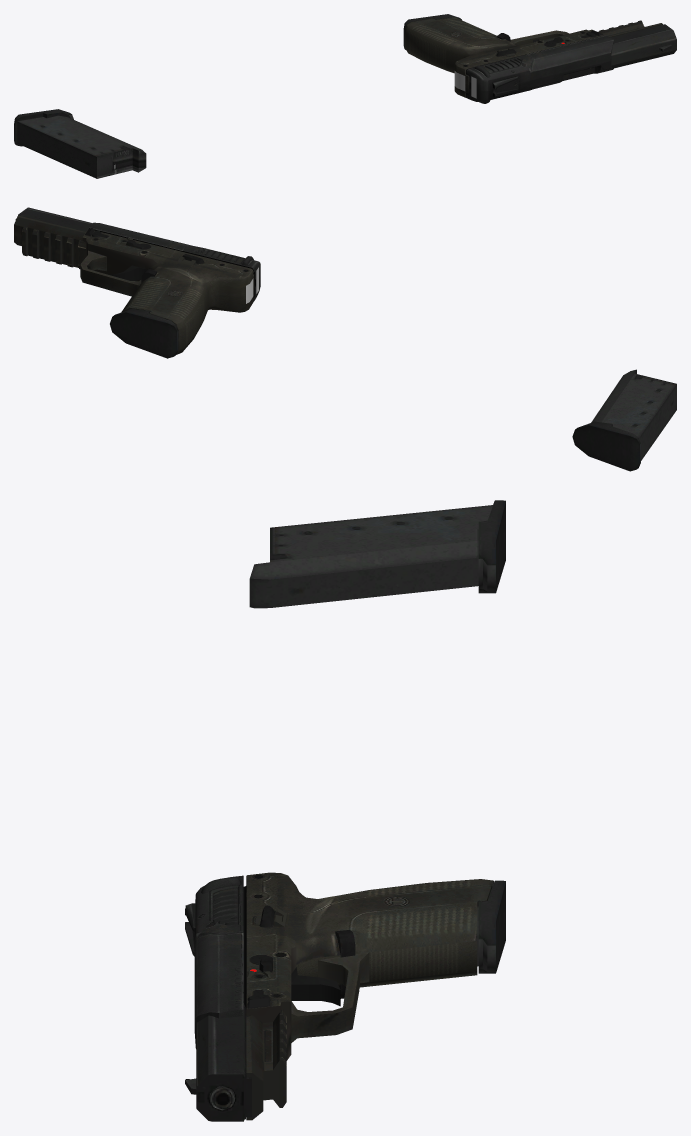
File: t6_wpn_pistol_fiveseven_view_lh_LOD0.obj
The picture shows the model from 3 angles, top to bottom: view 1: azimuth 30°, elevation 25°; view 2: azimuth 150°, elevation 25°; view 3: azimuth 270°, elevation 25°; orthographic projection. The views are drawn at different scales.
Visible parts, largest first — view 1: mtl_t6_wpn_pistol_fiveseven_camo1, mtl_t6_wpn_pistol_fiveseven_camo2, mtl_t6_wpn_pistol_fiveseven_camo3; view 2: mtl_t6_wpn_pistol_fiveseven_camo1, mtl_t6_wpn_pistol_fiveseven_camo2, mtl_t6_wpn_pistol_fiveseven_camo3; view 3: mtl_t6_wpn_pistol_fiveseven_camo1, mtl_t6_wpn_pistol_fiveseven_camo2, mtl_t6_wpn_pistol_fiveseven_camo3.
Part boxes in pixels (left/top/right/bottom): mtl_t6_wpn_pistol_fiveseven_camo1: left=14, top=17, right=662, bottom=178; mtl_t6_wpn_pistol_fiveseven_camo2: left=403, top=14, right=676, bottom=103; mtl_t6_wpn_pistol_fiveseven_camo3: left=468, top=35, right=613, bottom=100; mtl_t6_wpn_pistol_fiveseven_camo1: left=14, top=215, right=676, bottom=471; mtl_t6_wpn_pistol_fiveseven_camo2: left=15, top=207, right=260, bottom=358; mtl_t6_wpn_pistol_fiveseven_camo3: left=89, top=222, right=257, bottom=287; mtl_t6_wpn_pistol_fiveseven_camo1: left=209, top=500, right=505, bottom=1120; mtl_t6_wpn_pistol_fiveseven_camo2: left=185, top=875, right=505, bottom=1121; mtl_t6_wpn_pistol_fiveseven_camo3: left=185, top=876, right=243, bottom=1016.
Size of the model in its own units: 71.11 by 4.15 by 16.78.
